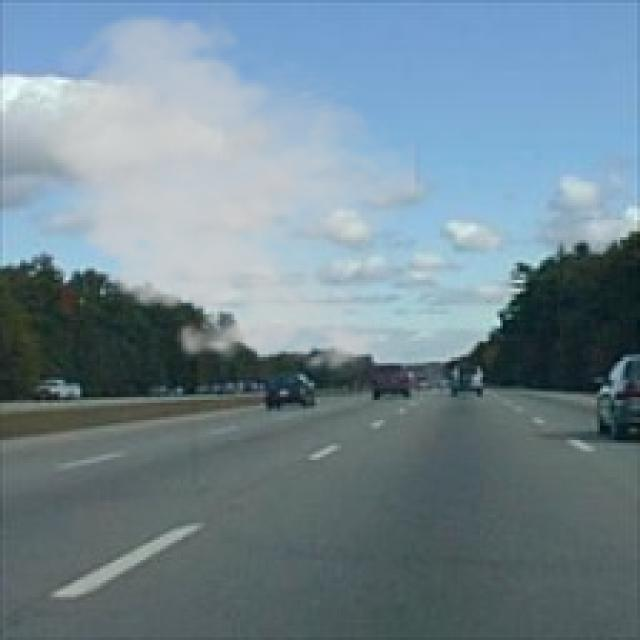smoke: (29, 6, 420, 383)
